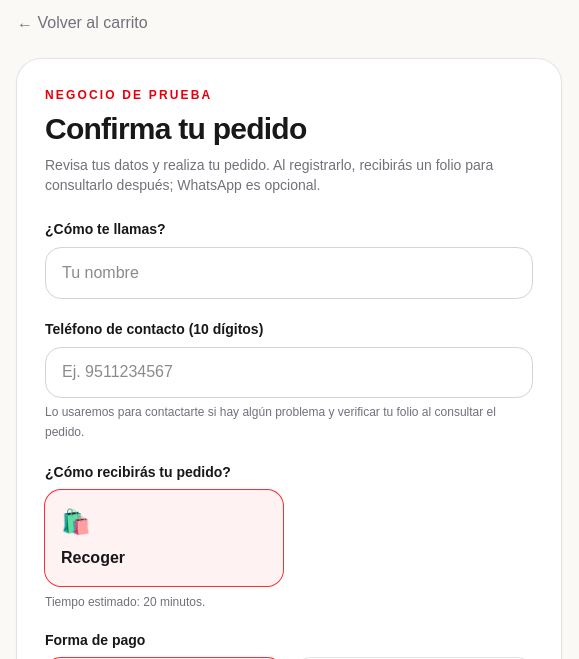
Scenario: OrderForm · errores › el campo de teléfono solo admite dígitos y un máximo de 10
Step 1. Type "55-12 34a56789012" into the field with placeholder "Ej. 9511234567" → (289,372), box top-left (45, 347), bottom-right (533, 398)
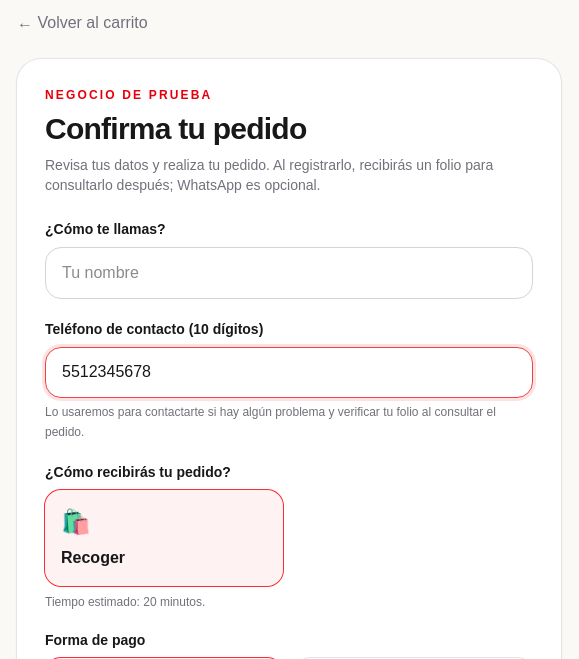
Expected: the field with placeholder "Ej. 9511234567" holds "5512345678", top-left (45, 347), bottom-right (533, 398)
